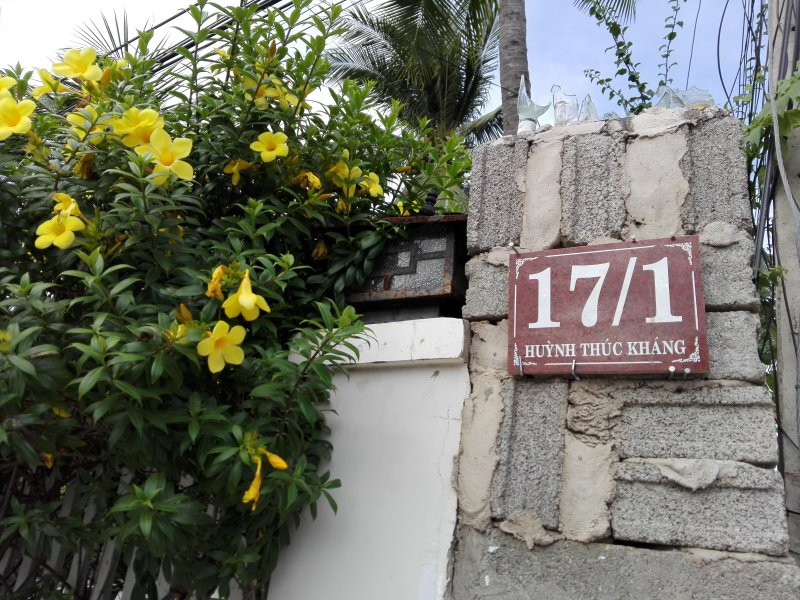banner: (506, 251, 701, 370)
